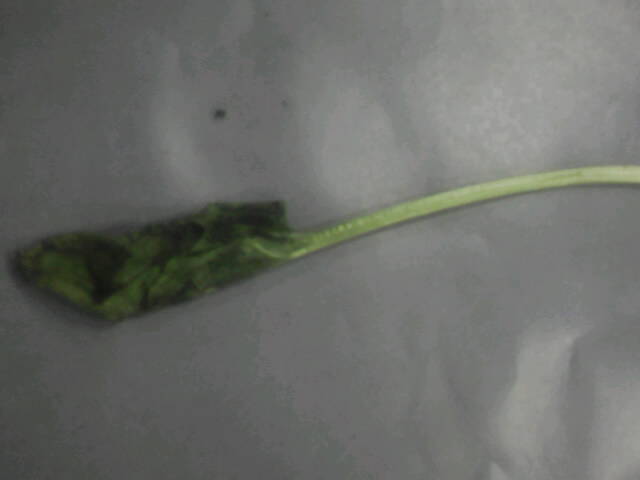yellow: (14, 169, 623, 365)
